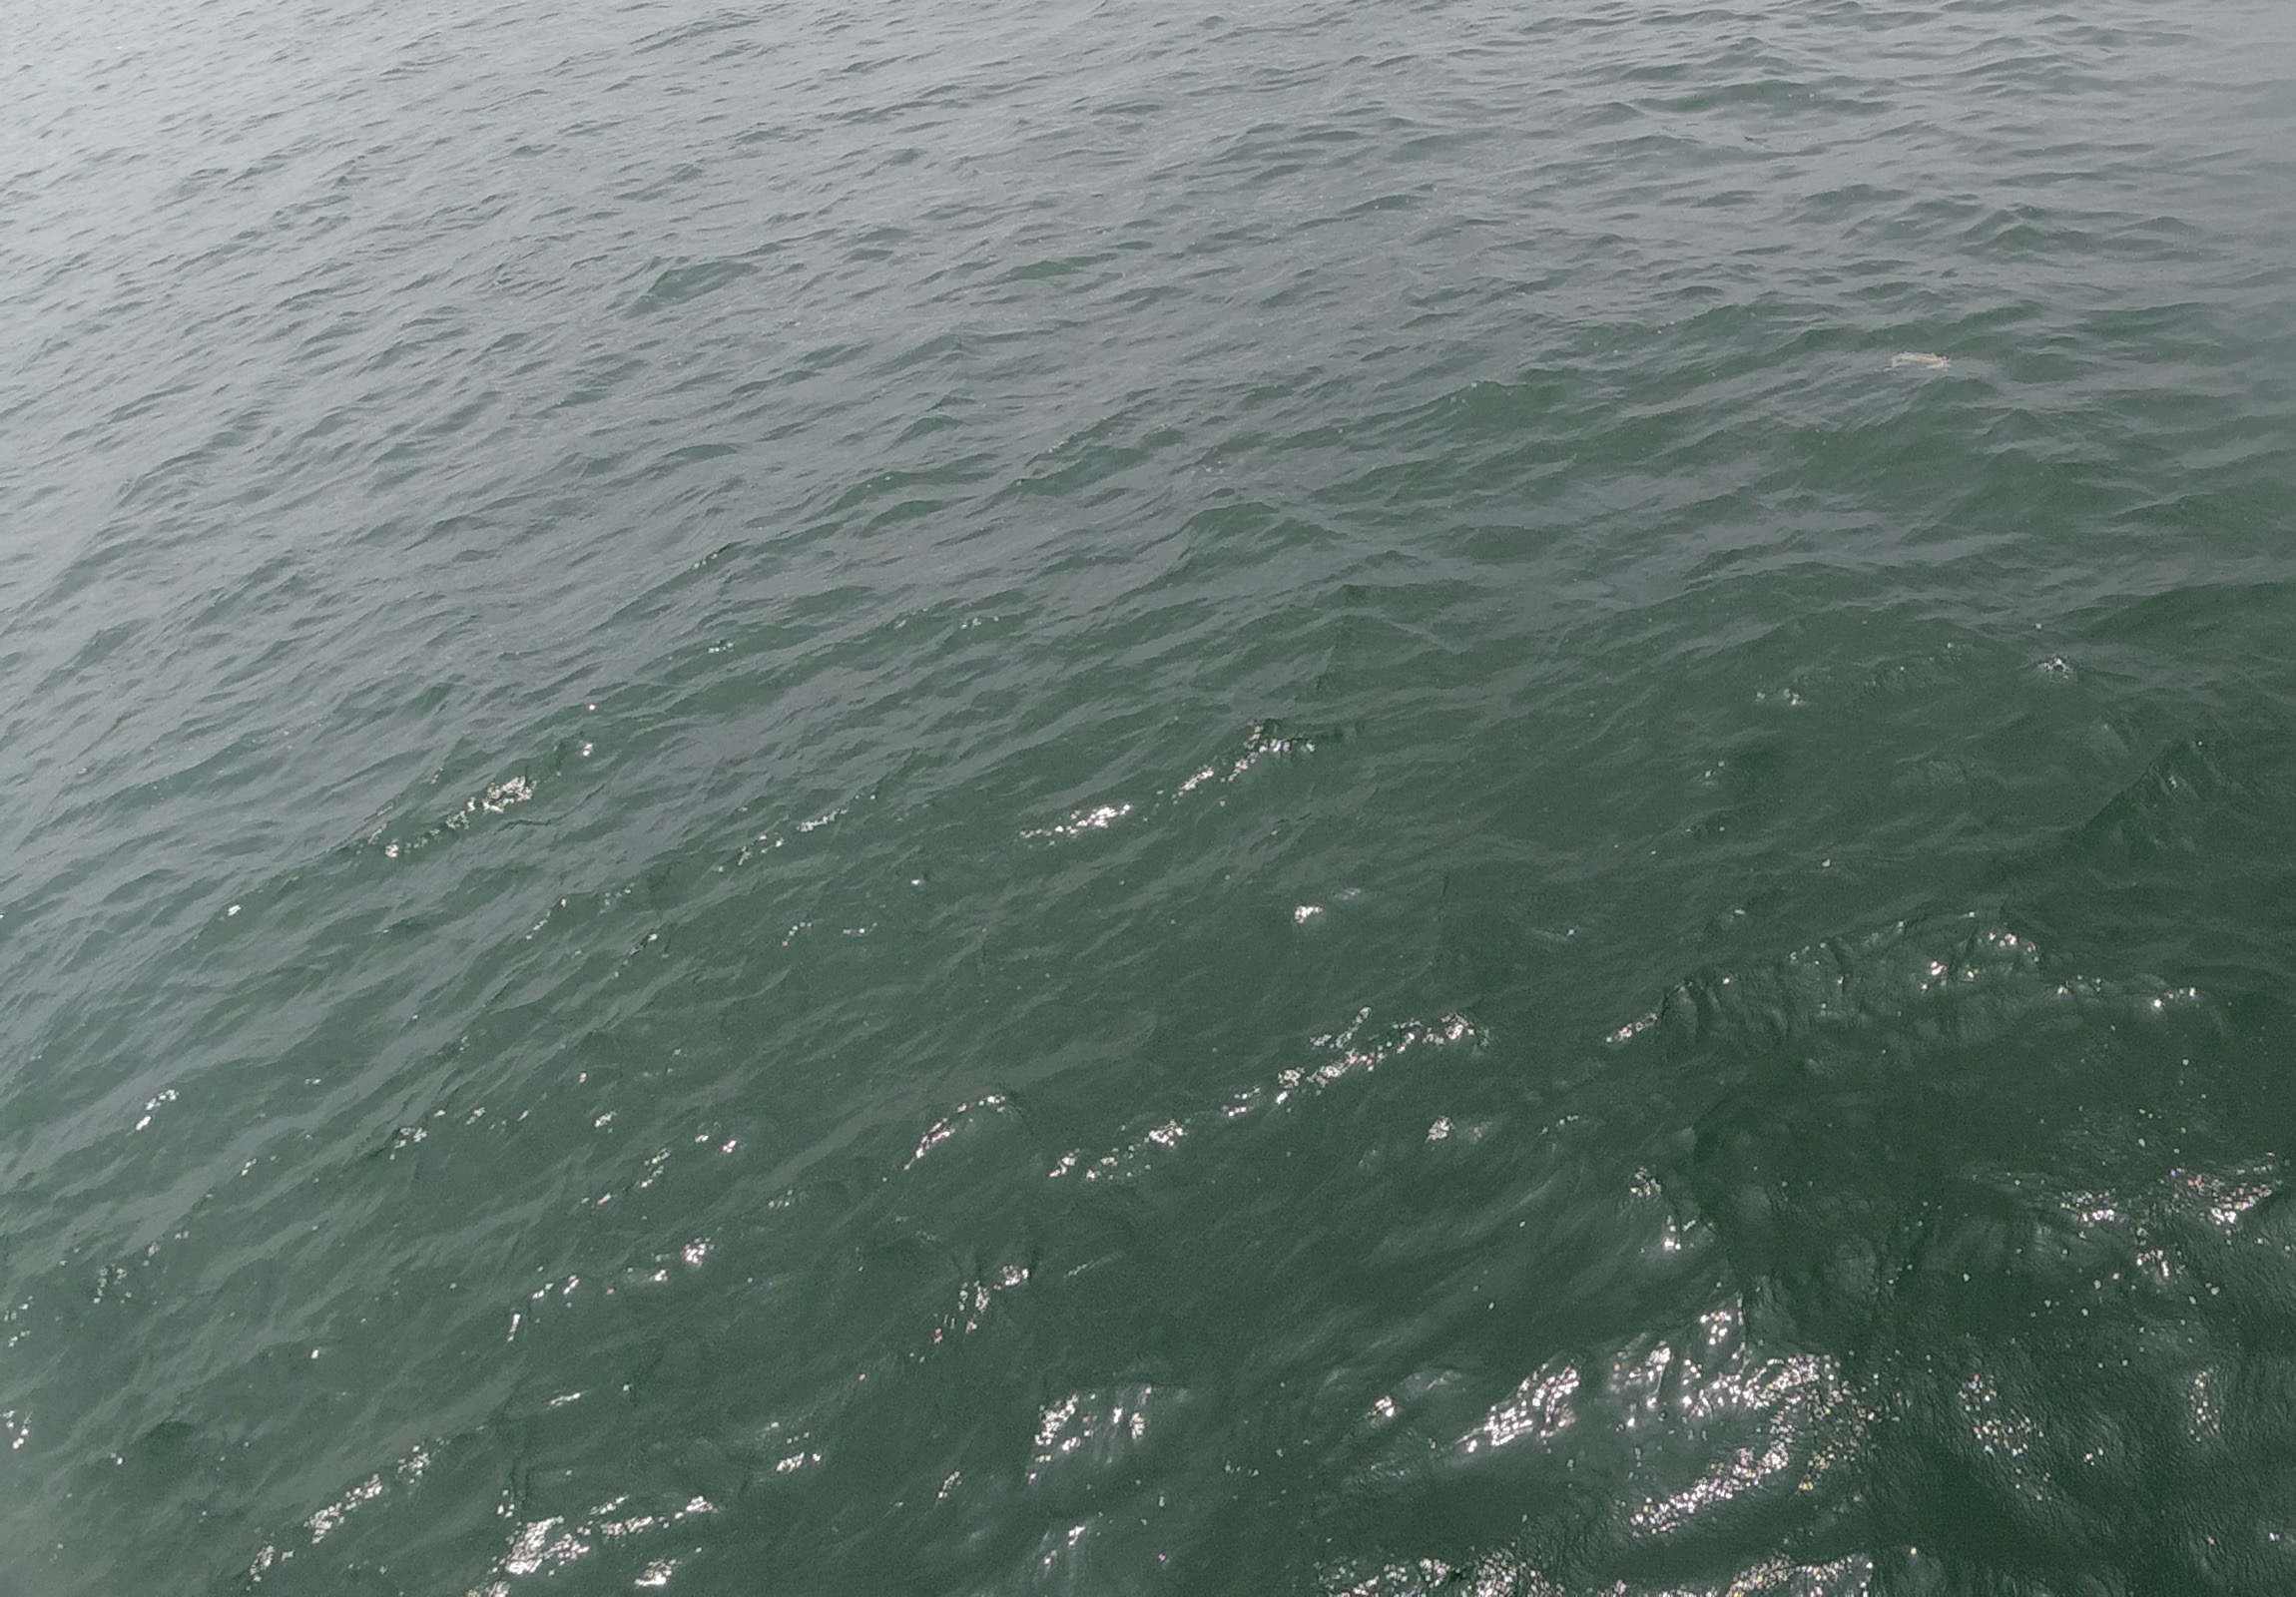plastic: (1867, 344, 1970, 386)
